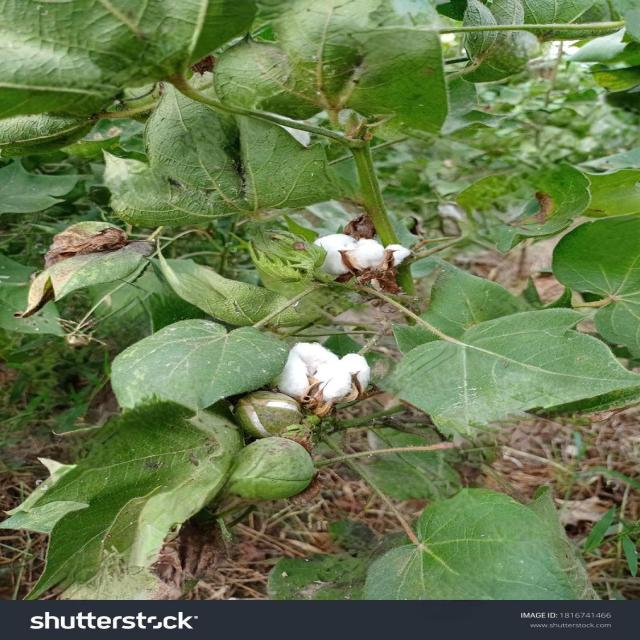Late_blight: (255, 337, 388, 427), (298, 219, 433, 292)
